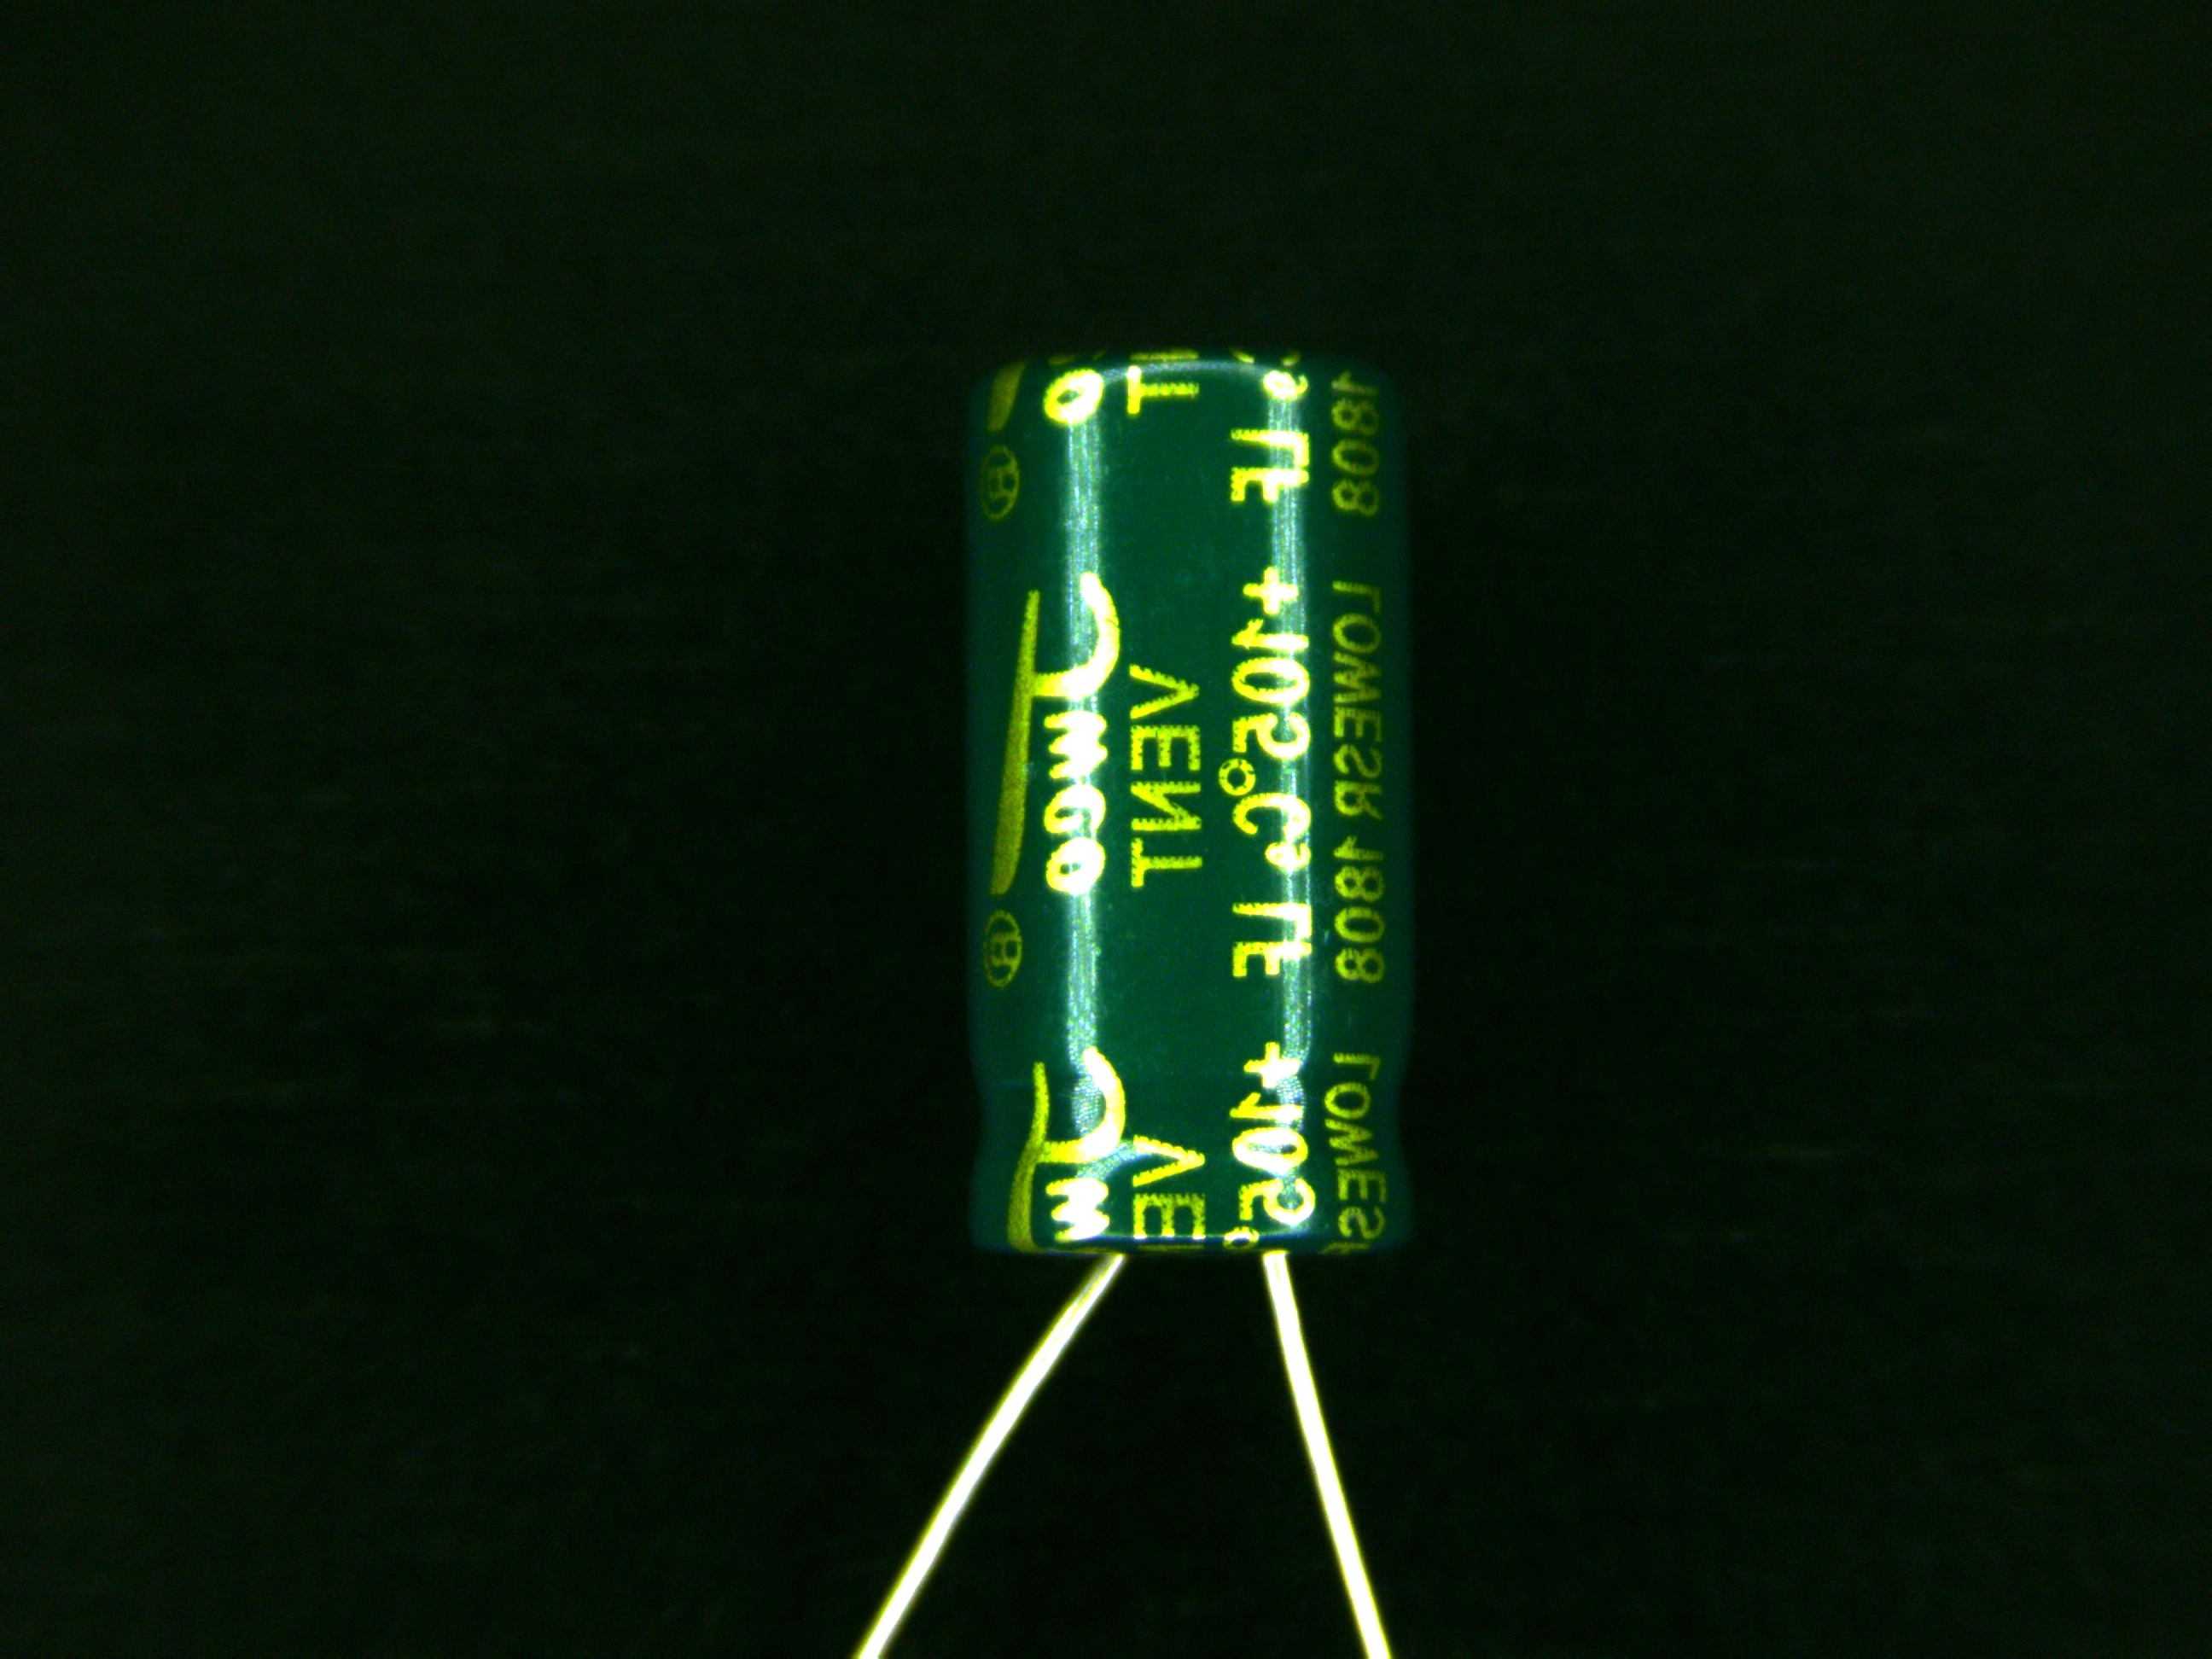c1: (958, 343, 1416, 1466)
